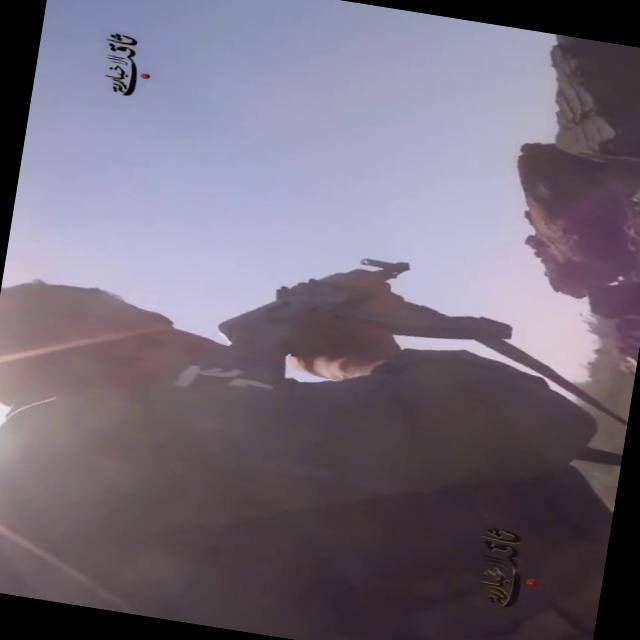long weapon: (208, 222, 522, 390)
